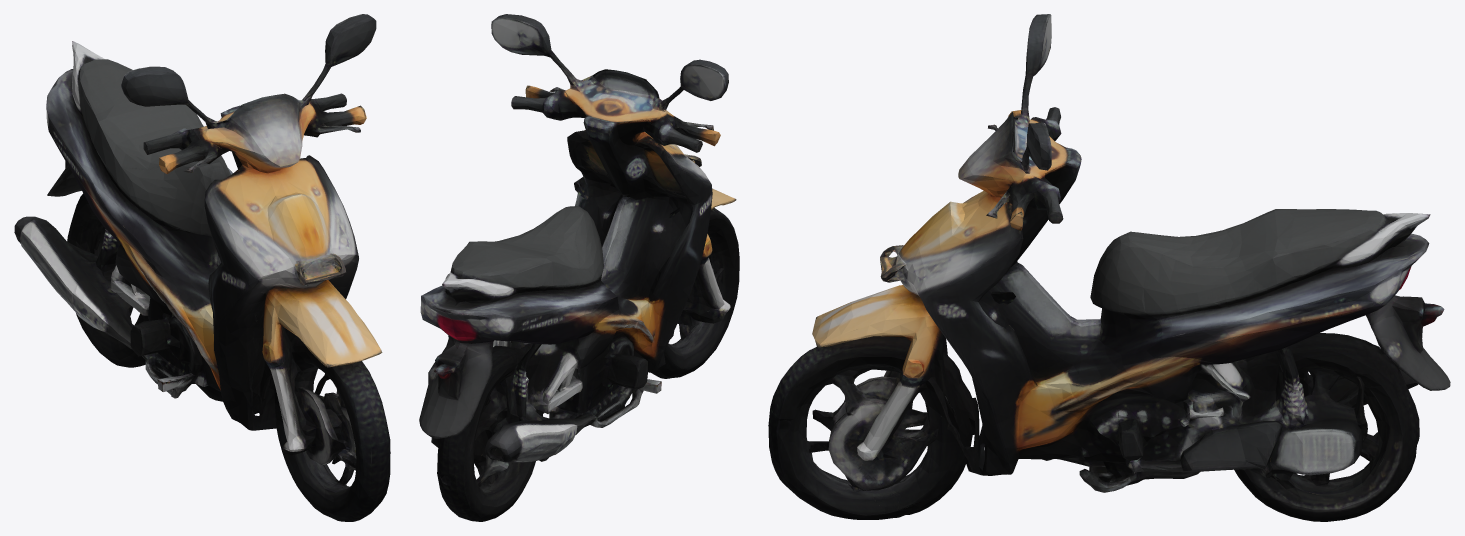
File: Kabir 125H.glb
3 views of the same model, side by side, from view 1: azimuth 30°, elevation 25°; view 2: azimuth 150°, elevation 25°; view 3: azimuth 270°, elevation 25° (orthographic). The views are drawn at different scales.
Visible parts, largest first — view 1: world; view 2: world; view 3: world.
Part boxes in pixels (box(x1,y1,x2,y2)): world: box(14, 14, 390, 521); world: box(419, 14, 739, 521); world: box(768, 14, 1450, 521).
Size of the model in its own units: 0.4626 by 0.7177 by 1.
Materials: 1 (1 with a texture image).
